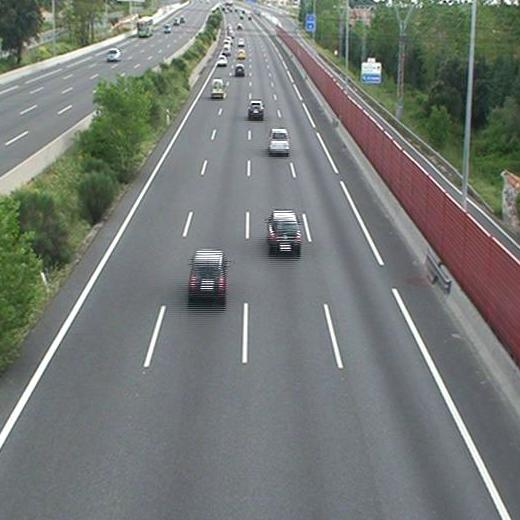car: (189, 250, 226, 298), (267, 211, 301, 251), (269, 129, 288, 153), (247, 100, 263, 118), (235, 65, 245, 74), (237, 49, 246, 58), (218, 55, 226, 65)
van: (211, 79, 224, 98)
